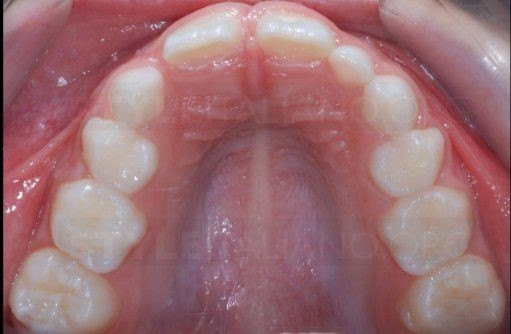UL1BC_healthy: (372, 134, 451, 199)
UL1M_healthy: (397, 249, 507, 330)
UL2BC_healthy: (375, 191, 465, 279)
ULCI_healthy: (258, 11, 323, 71)
ULC_healthy: (350, 88, 417, 131)
ULLI_healthy: (330, 50, 374, 90)
UR1BC_healthy: (59, 179, 137, 267)
UR2BC_healthy: (9, 249, 118, 330)
URCI_healthy: (165, 8, 254, 68)
URC_healthy: (78, 111, 151, 192)
URLI_healthy: (107, 69, 160, 125)
